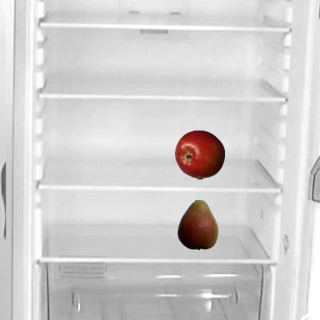Apple Braeburn: (174, 129, 224, 179)
Pear Forelle: (172, 199, 222, 249)
